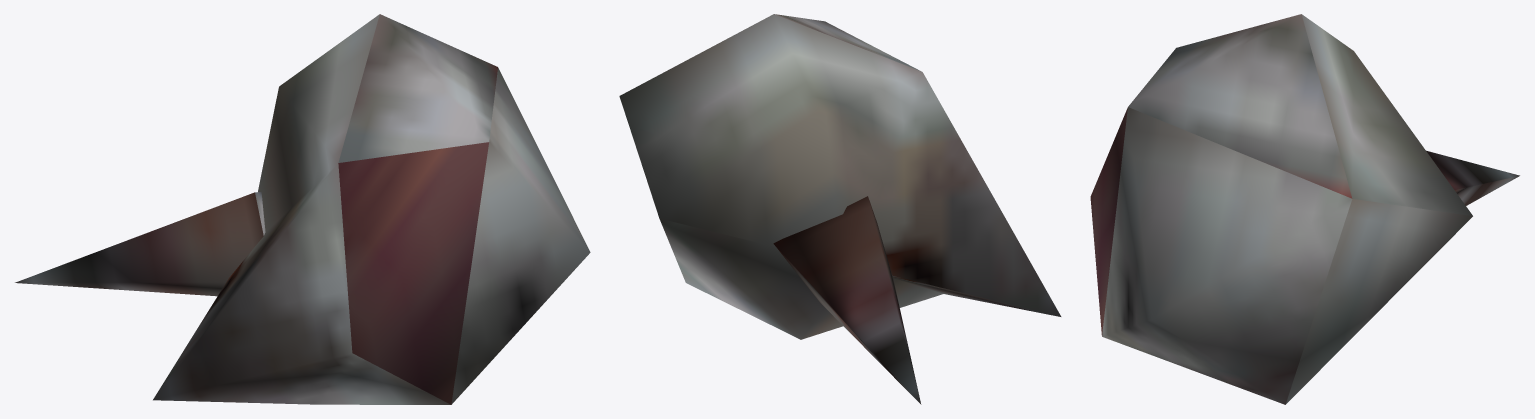
The model's file is poi_repairdroidhead_l2.fbx.
3 views of the same model, side by side, from view 1: azimuth 30°, elevation 25°; view 2: azimuth 150°, elevation 25°; view 3: azimuth 270°, elevation 25° (orthographic). The views are drawn at different scales.
Visible parts, largest first — view 1: mesh_node; view 2: mesh_node; view 3: mesh_node.
Part boxes in pixels (box(x1,y1,x2,y2)): mesh_node: box(15, 14, 590, 404); mesh_node: box(619, 14, 1061, 404); mesh_node: box(1090, 14, 1519, 404).
Bounding box in the file's own units: 0.217 × 0.1747 × 0.1862.
